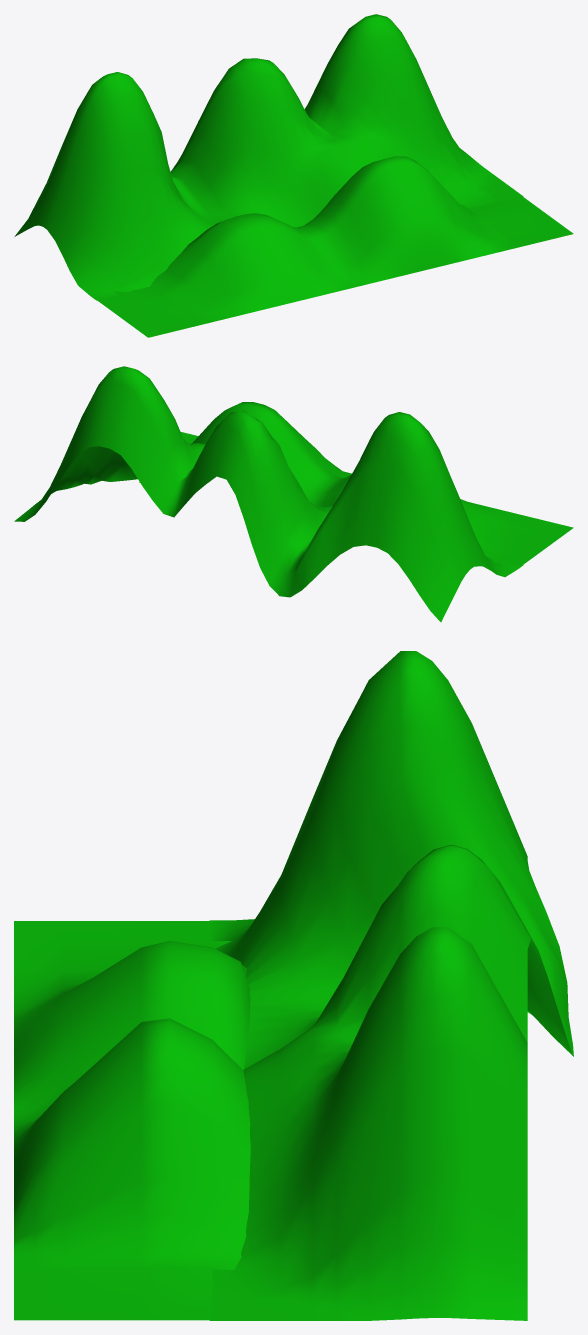
The model's file is Hills.fbx.
3 renders of one model, top to bottom at view 1: azimuth 30°, elevation 25°; view 2: azimuth 150°, elevation 25°; view 3: azimuth 270°, elevation 25°, orthographic. The views are drawn at different scales.
Visible parts, largest first — view 1: Hills; view 2: Hills; view 3: Hills.
Boxes of the visible parts, left/top/right/bottom form: Hills: left=14, top=14, right=573, bottom=337; Hills: left=14, top=366, right=573, bottom=622; Hills: left=14, top=651, right=573, bottom=1320.
Bounding box in the file's own units: 23.41 × 8.98 × 13.83.
